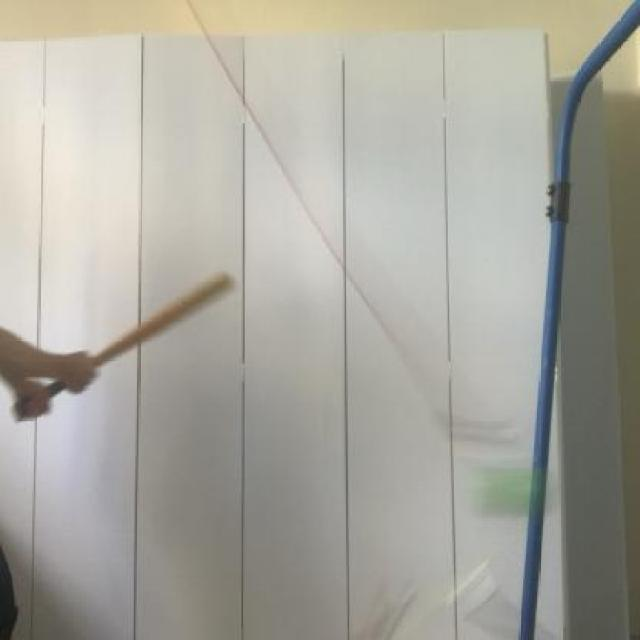baseball: (461, 444, 577, 542)
